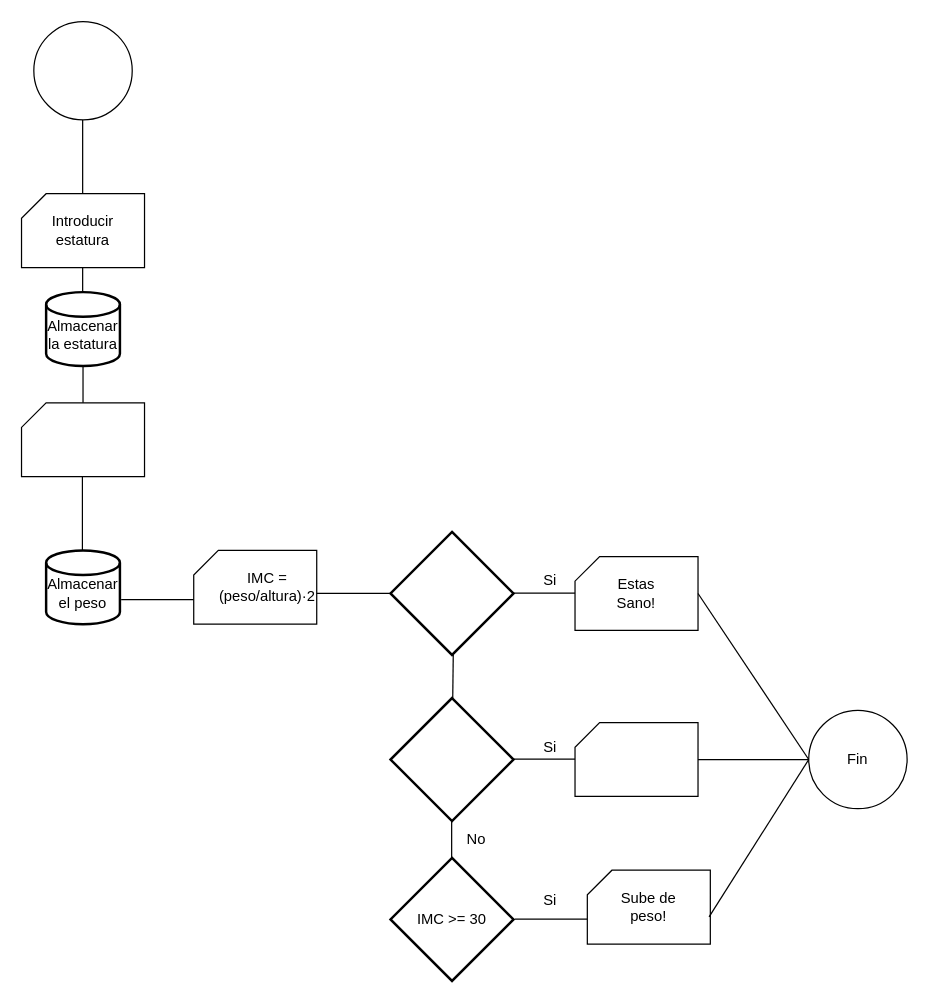
Image size: 929x1004. Some labels were removed from this diagram. The shapes that lost their labels are listed below. From the top down, each one's centre as x and y in pixels, then its label:
At pixel 82 439: "Introducir Peso".
At pixel 451 593: "IMC =>18,5 y IMC=<24,9".
At pixel 451 759: "IMC <18,5".
At pixel 636 758: "Baja peso!!".
